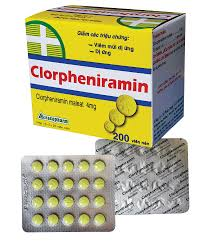Clorpheniramin: (32, 65, 145, 88), (35, 93, 83, 109)
